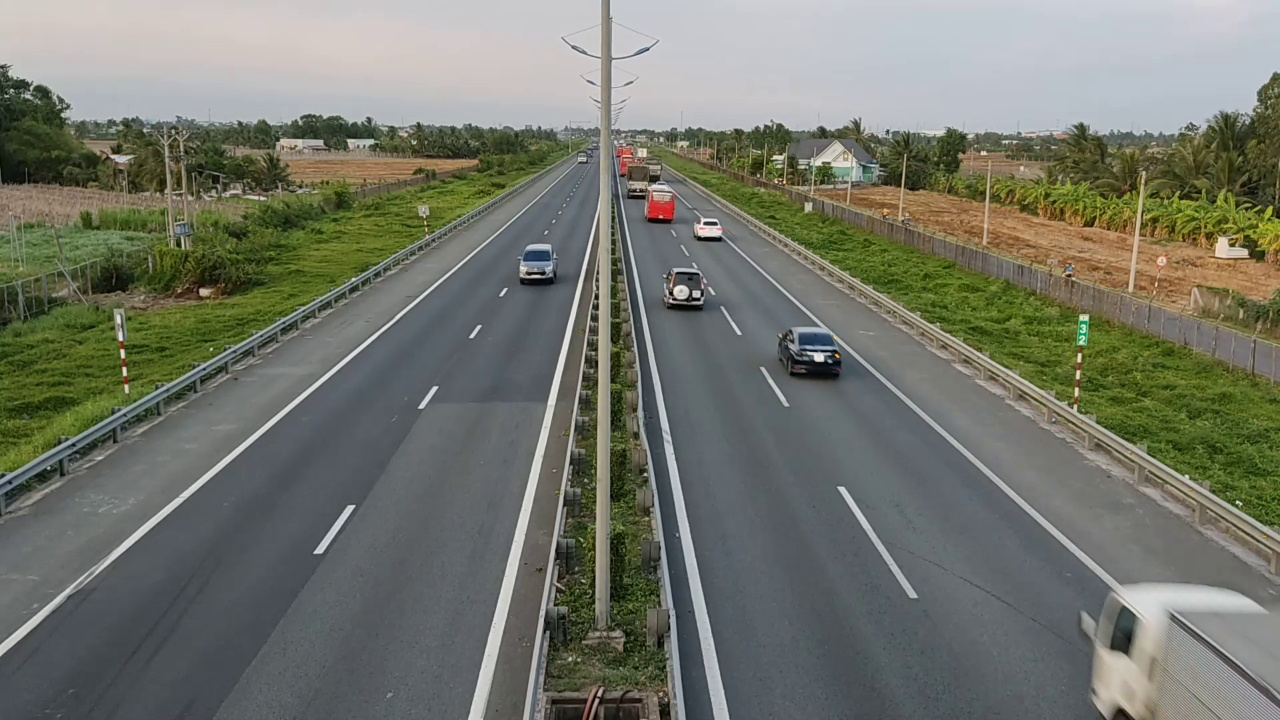car: (775, 324, 842, 377), (661, 266, 706, 309), (518, 242, 559, 284), (692, 216, 723, 241)
truck: (1082, 582, 1280, 719)
